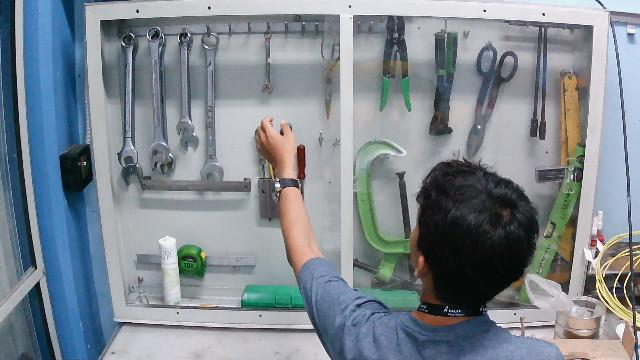kunci_pass_13: (252, 15, 298, 173)
